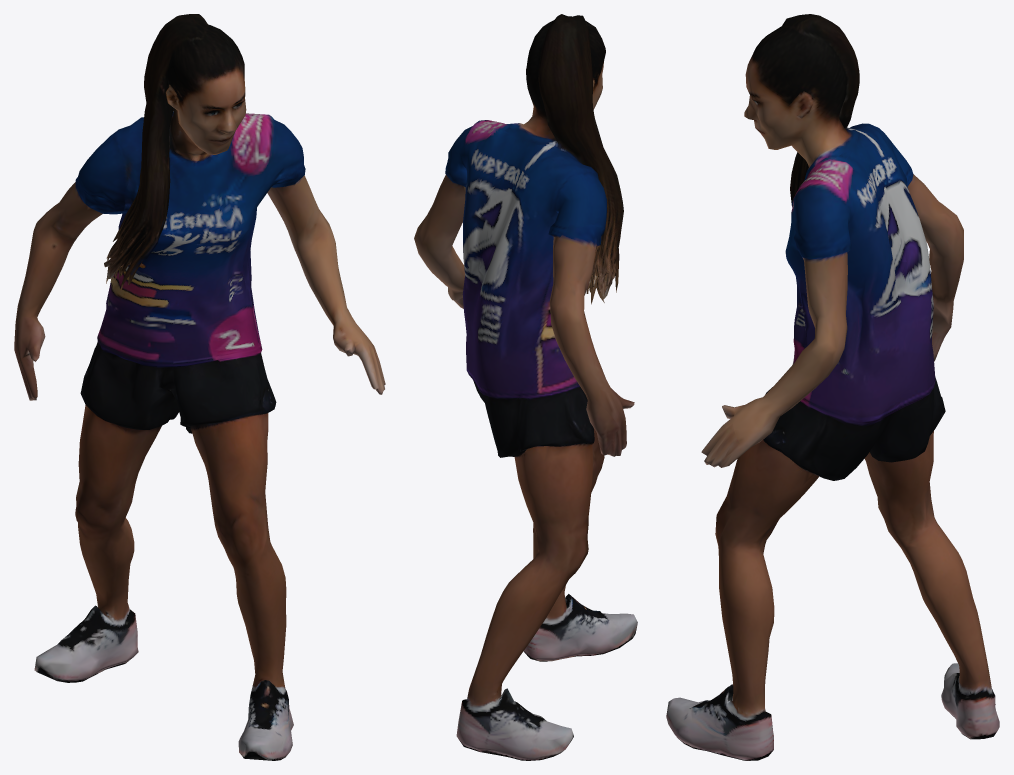
File: half_2_idle.glb
3 views of the same model, side by side, from view 1: azimuth 30°, elevation 25°; view 2: azimuth 150°, elevation 25°; view 3: azimuth 270°, elevation 25° (orthographic). The views are drawn at different scales.
Parts seen in each view (by area): view 1: Idle; view 2: Idle; view 3: Idle.
Part boxes in pixels (x1,y1,x2,y2): Idle: (14,14,385,760); Idle: (414,14,637,760); Idle: (666,14,999,760).
Bounding box in the file's own units: 38.15 × 95.6 × 40.46.
1 material, 1 textured.
